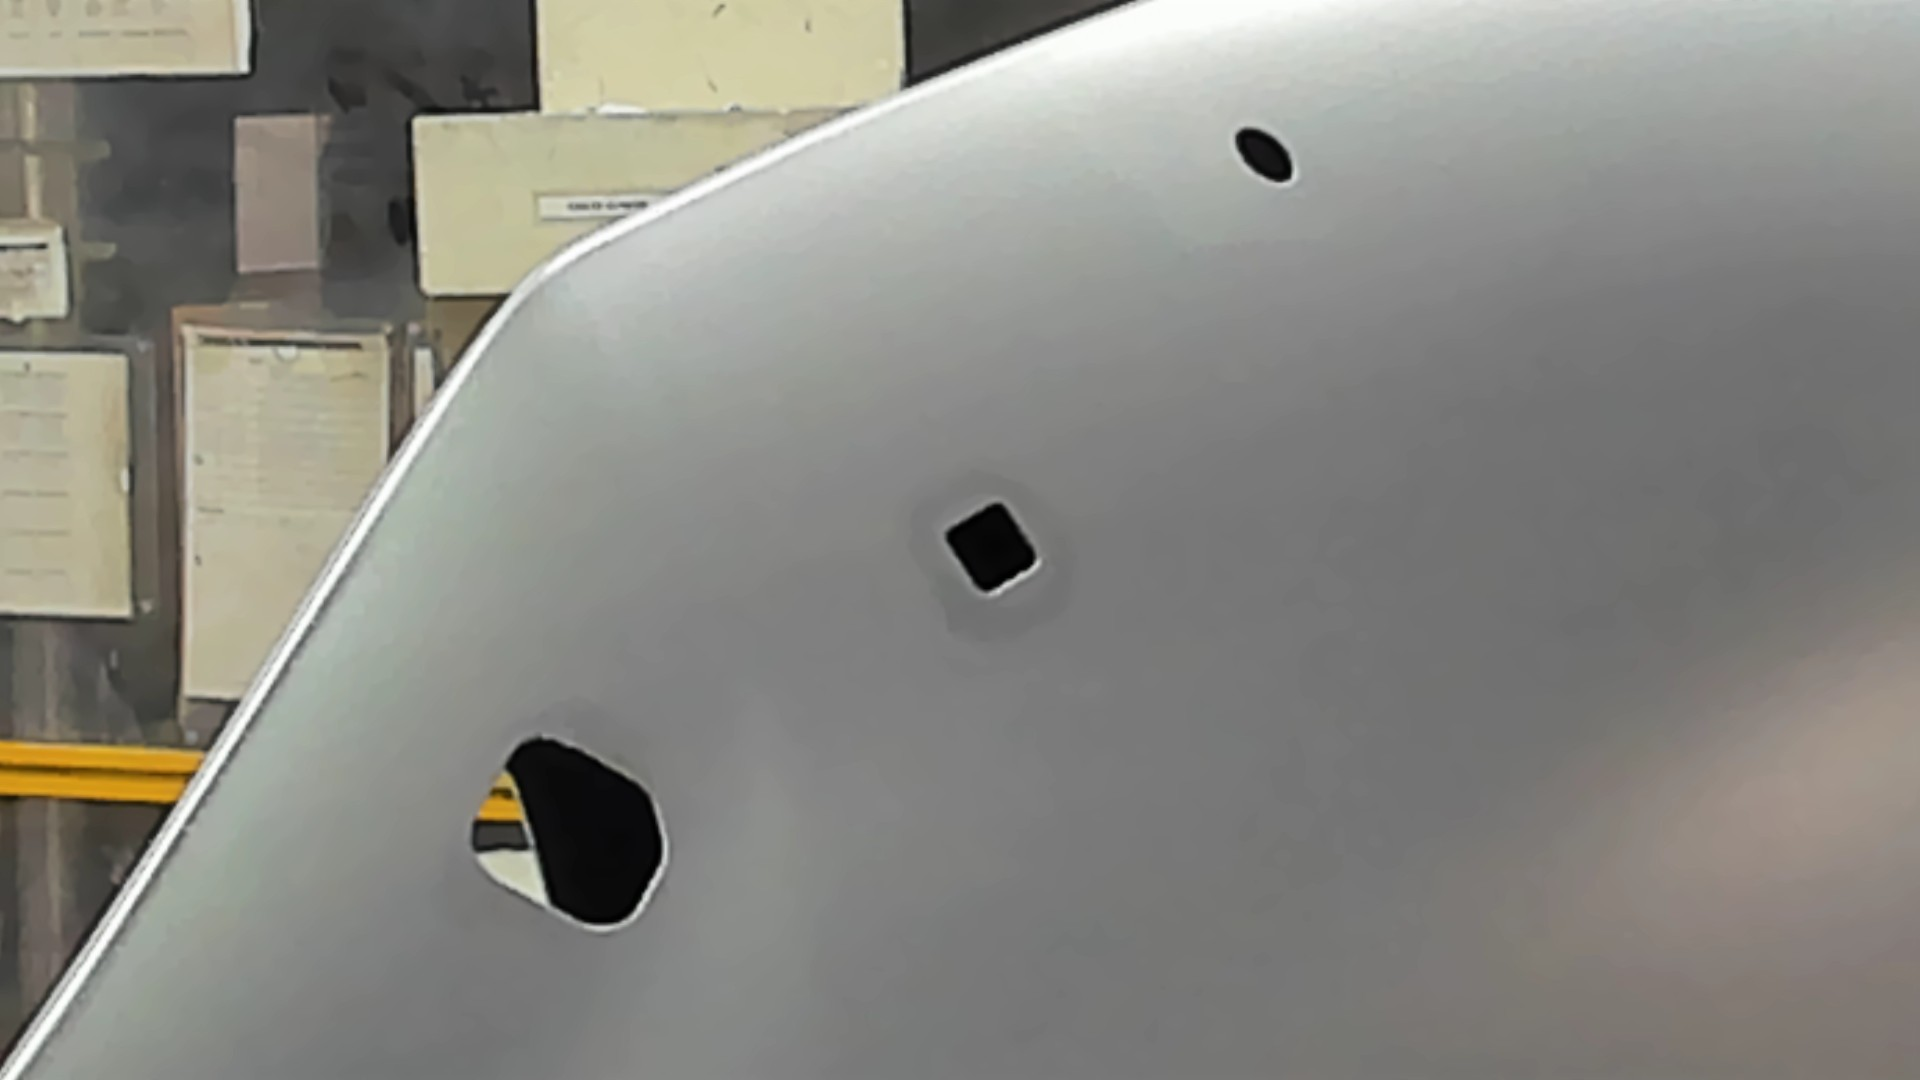chico: (1232, 120, 1299, 185)
grande: (465, 733, 673, 938)
mediano: (939, 500, 1044, 601)
